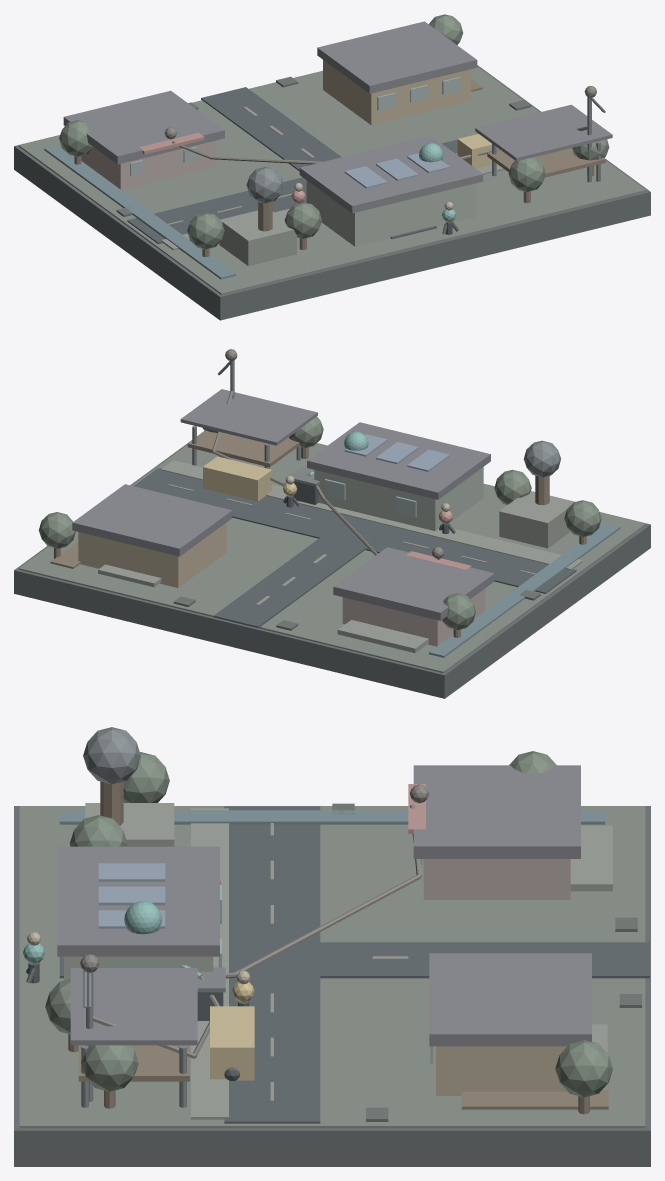
The model's file is yudae_p_commons.glb.
3 views of the same model, one above another, from view 1: azimuth 30°, elevation 25°; view 2: azimuth 150°, elevation 25°; view 3: azimuth 270°, elevation 25° (orthographic). The views are drawn at different scales.
Parts seen in each view (by area): view 1: g0001, g0000, g0037, g0043, g0031, g0042, g0003, g0054, g0036, g0030, g0061, g0016 (+13 smaller); view 2: g0001, g0000, g0002, g0037, g0043, g0031, g0003, g0042, g0036, g0054, g0015, g0061 (+14 smaller); view 3: g0001, g0000, g0002, g0037, g0031, g0043, g0003, g0054, g0030, g0036, g0015, g0016 (+20 smaller).
Boxes of the visible parts, box(x1,y1,x2,y2) form: g0001: box(19, 66, 645, 294); g0000: box(14, 65, 650, 320); g0037: box(317, 21, 477, 93); g0043: box(299, 135, 483, 213); g0031: box(63, 90, 224, 164); g0042: box(306, 180, 476, 246); g0003: box(201, 87, 436, 239); g0054: box(475, 104, 612, 161); g0036: box(323, 60, 471, 125); g0030: box(81, 140, 215, 190); g0061: box(219, 210, 296, 265); g0016: box(44, 144, 235, 279); g0001: box(19, 443, 645, 673); g0000: box(14, 431, 650, 698); g0002: box(133, 468, 576, 593); g0037: box(72, 484, 232, 556); g0043: box(307, 422, 490, 499); g0031: box(333, 547, 494, 620); g0003: box(213, 516, 394, 628); g0042: box(314, 467, 483, 530); g0036: box(78, 522, 226, 587); g0054: box(180, 389, 317, 445); g0015: box(161, 460, 582, 569); g0061: box(499, 491, 575, 548); g0001: box(19, 806, 645, 1128); g0000: box(14, 806, 650, 1166); g0002: box(224, 806, 320, 1123); g0037: box(429, 953, 591, 1046); g0031: box(413, 765, 580, 858); g0043: box(57, 846, 219, 956); g0003: box(59, 942, 649, 978); g0054: box(70, 968, 197, 1045); g0030: box(423, 859, 570, 899); g0036: box(436, 1046, 567, 1095); g0015: box(191, 808, 228, 1119); g0016: box(59, 810, 605, 824).
Size of the model in its own units: 3.45 by 0.918 by 2.86.
